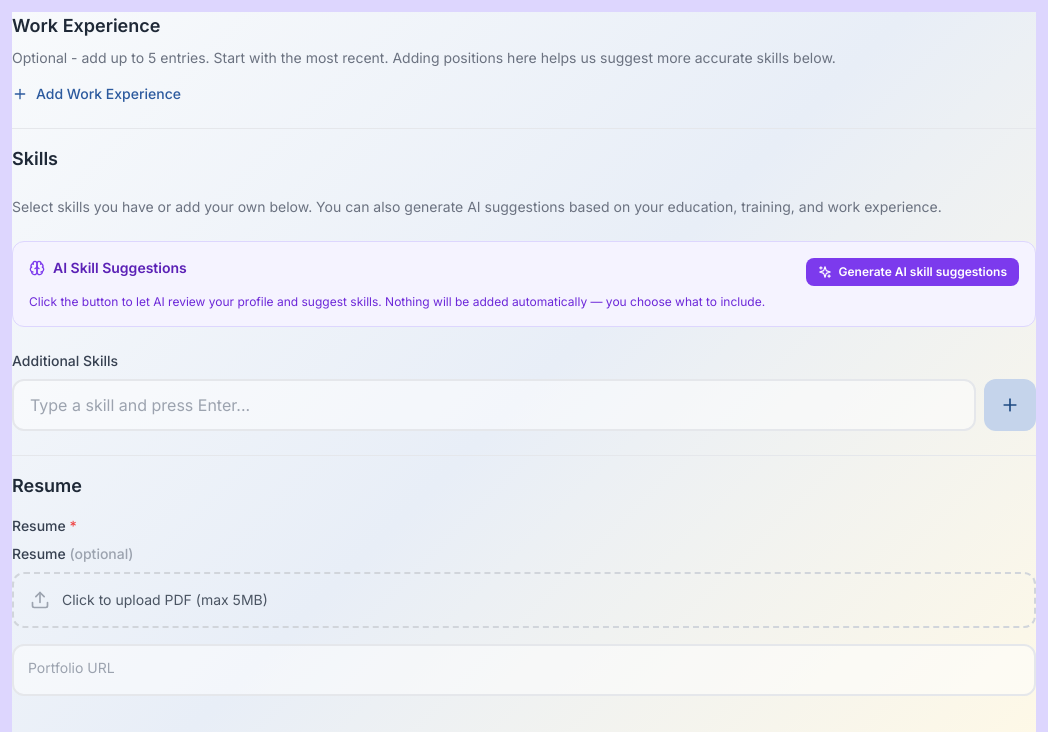
Test case: Step5SkillsExperience — AI skill suggestions › shows deterministic fallback when AI throws
The width and height of the screenshot is (1048, 732).
Click the button "Generate AI skill suggestions".
click(913, 272)  # box [806,258,1019,286]
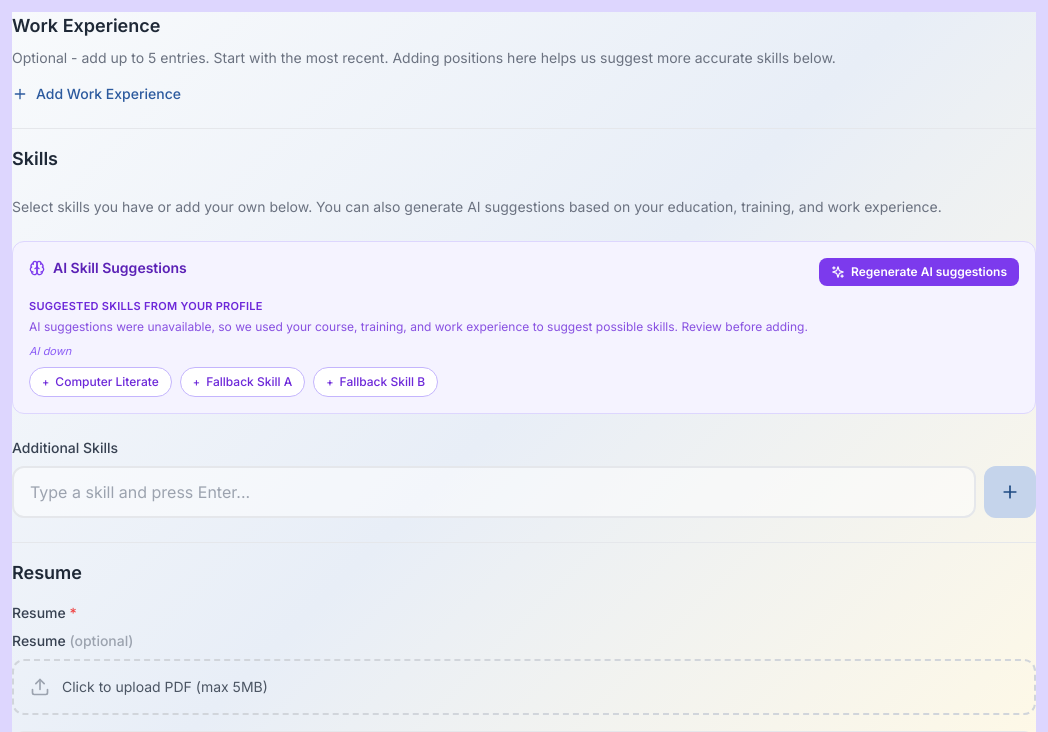
Now the text "Suggested Skills From Your Profile" is shown, box [29,299,263,313]
Now the text "Fallback Skill A" is shown, box [206,374,292,390]
